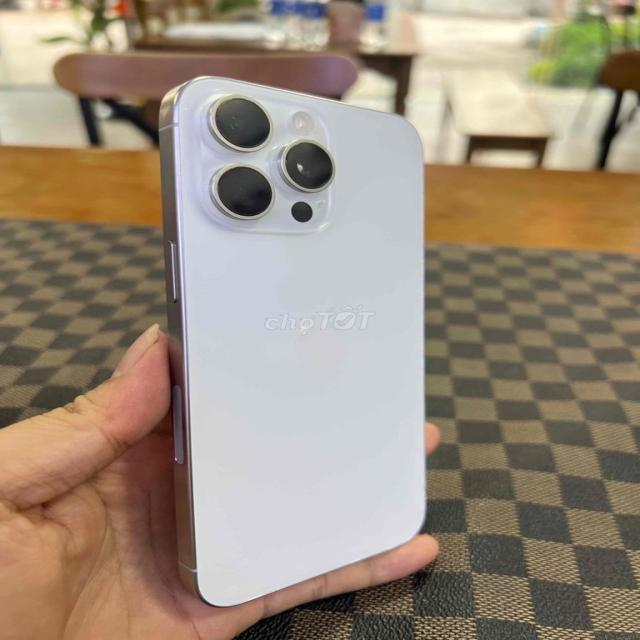gen_15: (138, 68, 446, 616)
